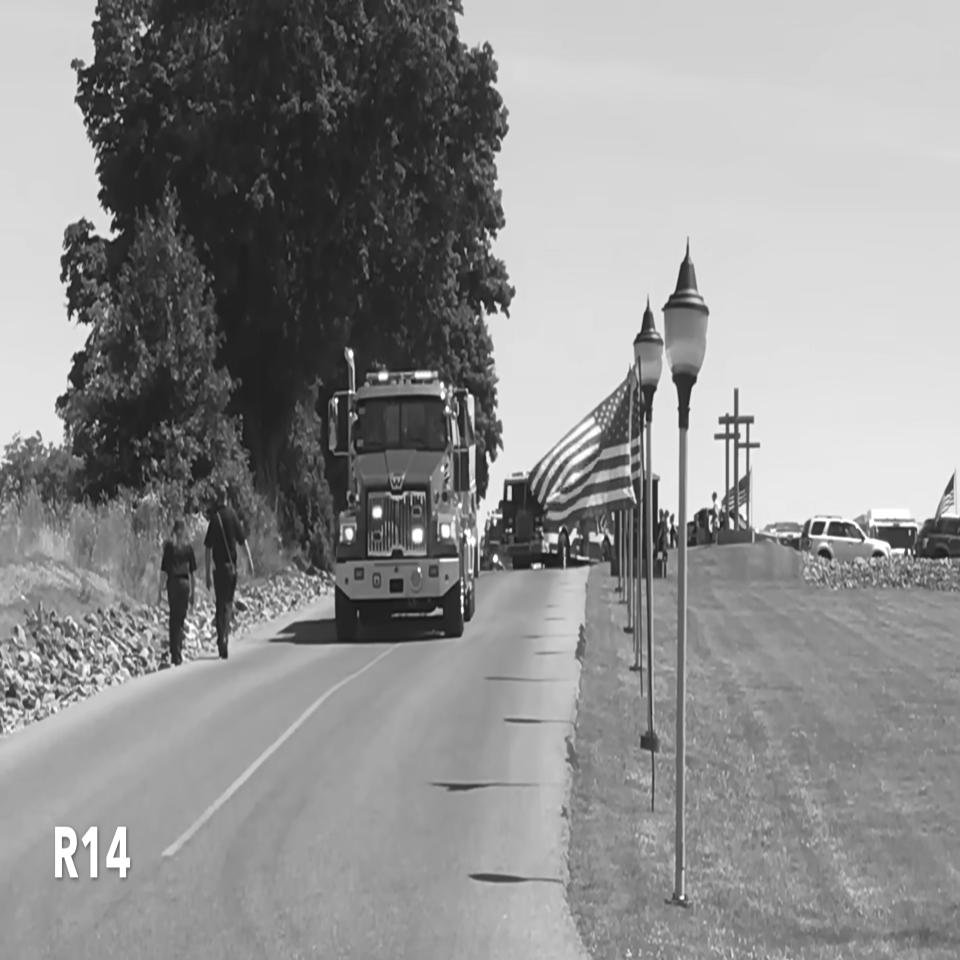bombeiro: (326, 345, 478, 640)
